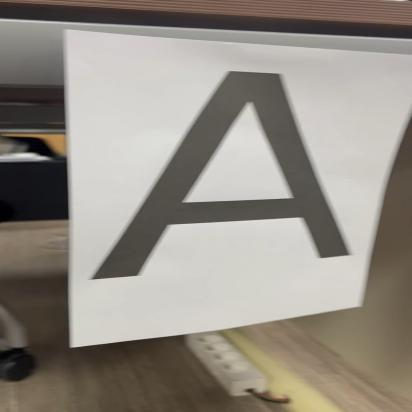seat: (87, 63, 363, 282)
